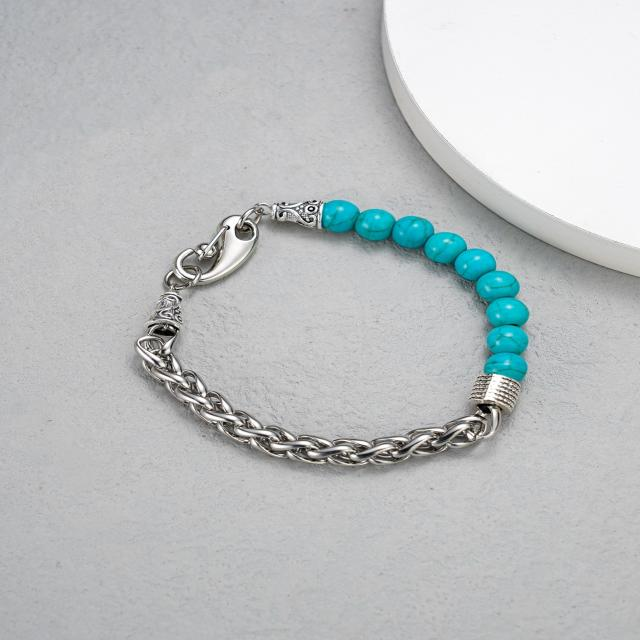bracelet: (62, 126, 640, 552)
